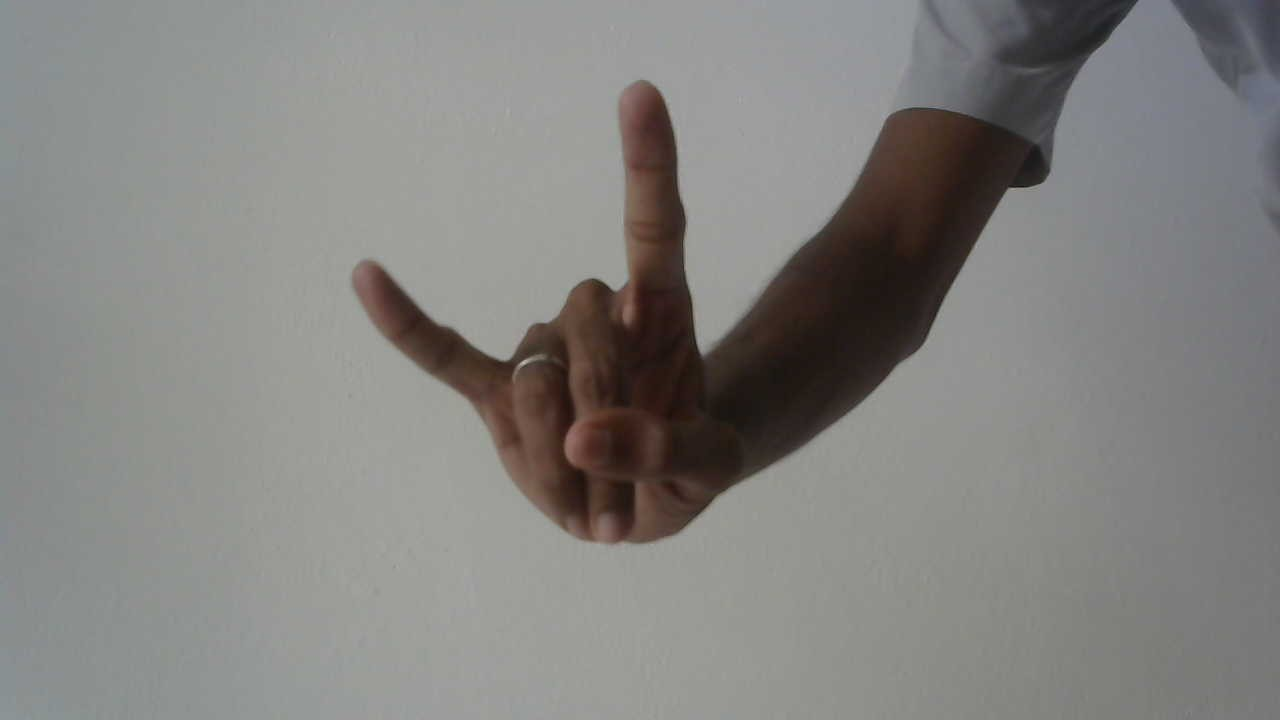iloveyou: (332, 68, 758, 560)
